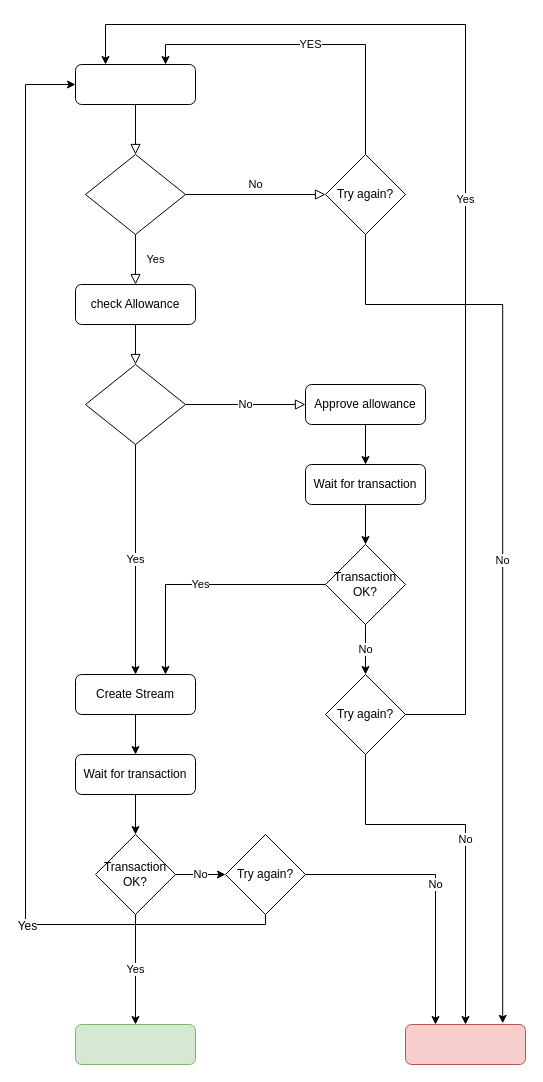
Image size: 543x1082. Some labels were removed from this diagram. The shapes that lost their labels are listed below. From the top down, each one's centre as x and y in pixels, then its label:
pixel 135 84: get balance
pixel 135 194: Balance OK?
pixel 135 404: Allowance ok?
pixel 135 1044: Show confirmation
pixel 465 1044: Exit
